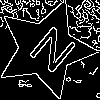N: (20, 24, 79, 83)
